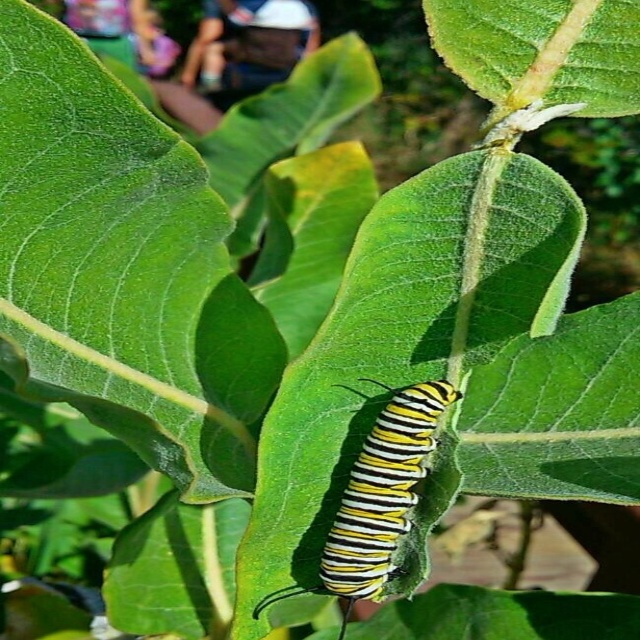Caterpillar: (257, 378, 462, 639)
